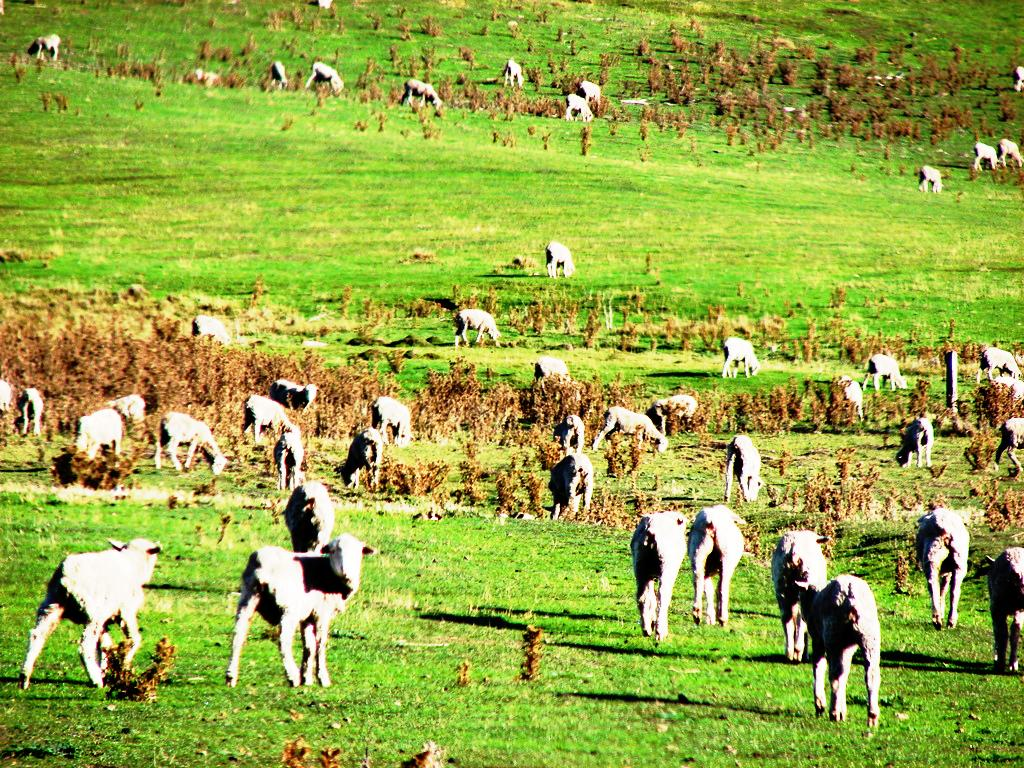Sheep: (22, 535, 166, 699), (227, 536, 373, 694), (794, 567, 886, 743), (623, 508, 691, 649), (907, 501, 972, 631), (774, 518, 829, 668), (970, 538, 1024, 688), (686, 501, 744, 633), (154, 406, 234, 477), (280, 468, 336, 564), (537, 447, 600, 527), (590, 399, 670, 460), (333, 420, 385, 494), (720, 428, 766, 505), (885, 416, 941, 476), (62, 407, 123, 462), (451, 302, 511, 354), (366, 390, 419, 448), (16, 377, 64, 440), (266, 422, 308, 488), (241, 390, 294, 440), (716, 333, 770, 378), (525, 352, 584, 392), (551, 409, 594, 459), (650, 391, 700, 433), (270, 375, 323, 414), (973, 341, 1024, 381), (864, 348, 905, 396), (542, 234, 581, 280), (304, 62, 346, 96), (400, 80, 444, 111), (995, 135, 1024, 174), (915, 163, 948, 196), (26, 34, 60, 60), (972, 140, 998, 172), (566, 94, 596, 120), (504, 60, 525, 86), (578, 82, 600, 106)
